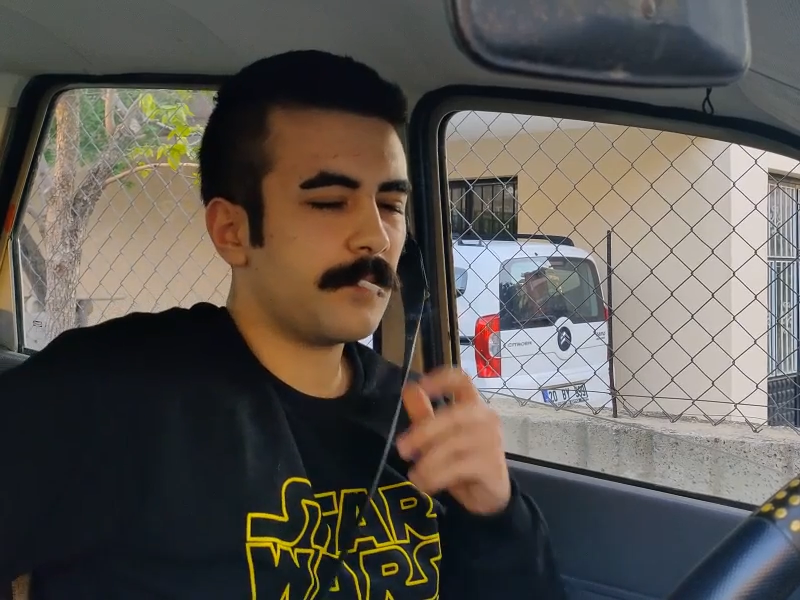sigara: (353, 276, 390, 304)
